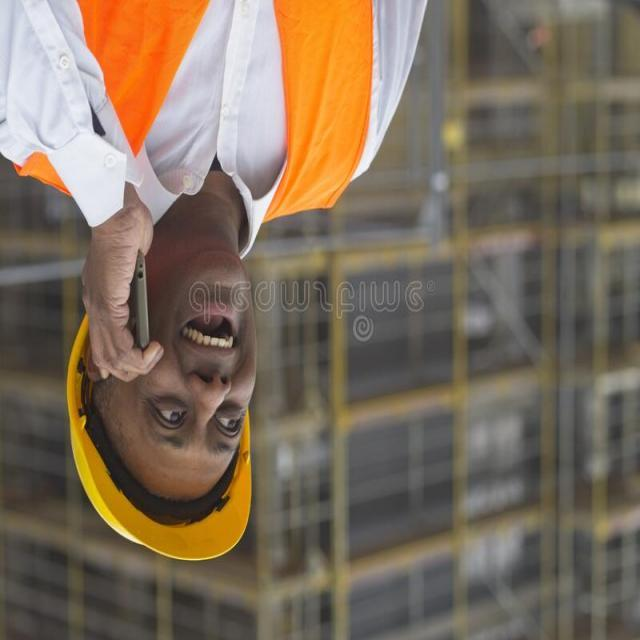safetyhelmet: (51, 317, 261, 564)
